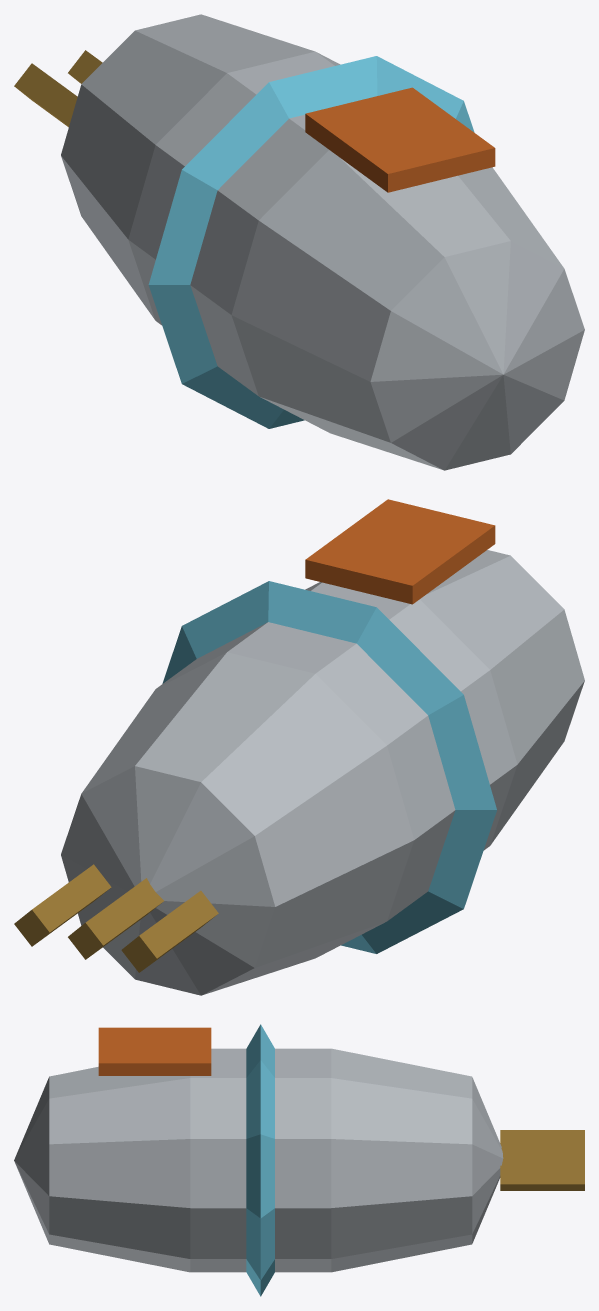
Rendered from mod-augment-capsule.glb.
3 views of the same model, one above another, from view 1: azimuth 30°, elevation 25°; view 2: azimuth 150°, elevation 25°; view 3: azimuth 270°, elevation 25° (orthographic). The views are drawn at different scales.
Visible parts, largest first — view 1: m; view 2: m; view 3: m.
Part boxes in pixels (x1,y1,x2,y2): m: [14, 14, 584, 470]; m: [14, 499, 584, 995]; m: [14, 1024, 584, 1296].
Size of the model in its own units: 0.0337 by 0.0321 by 0.07.
